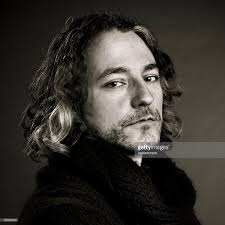white_male: (79, 52, 170, 147)
